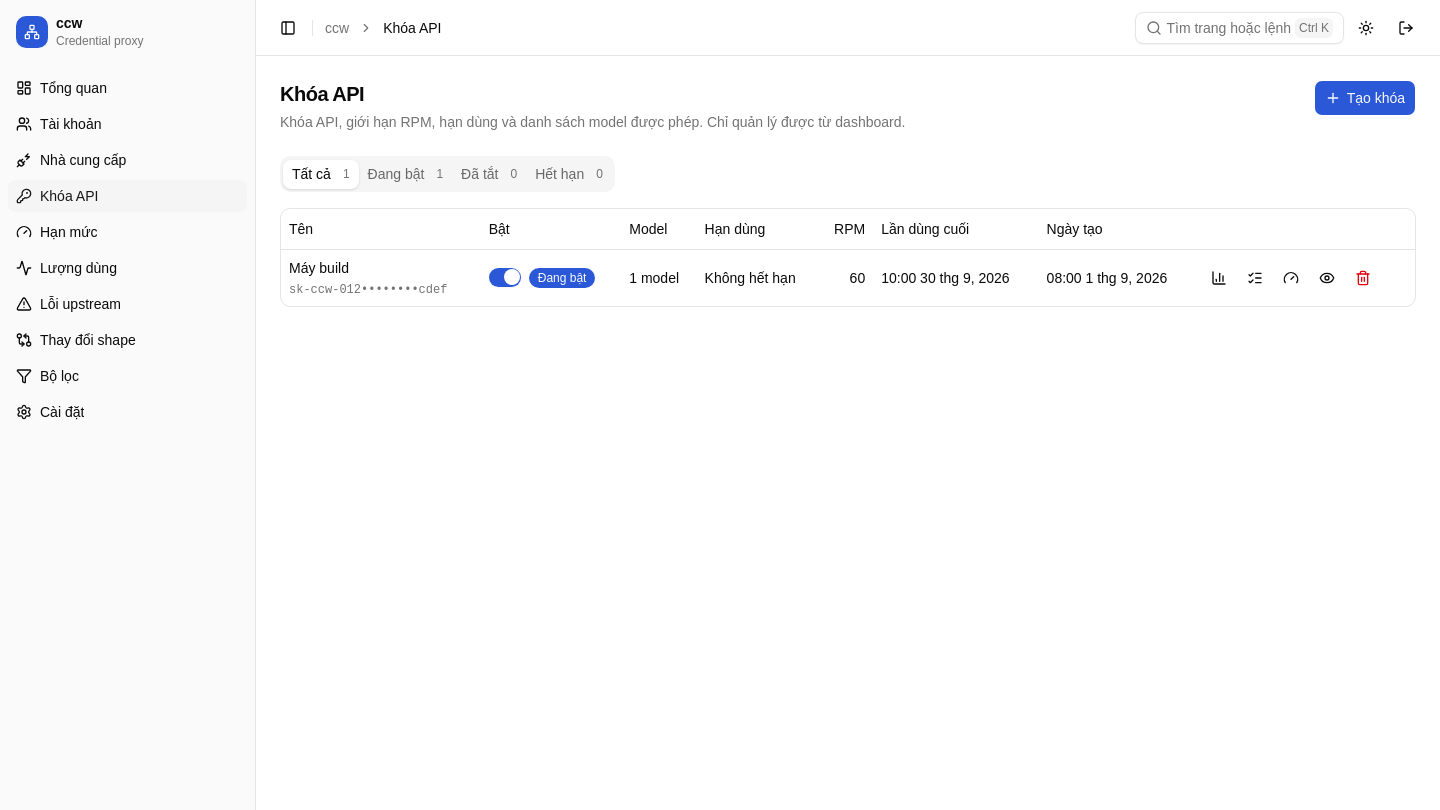
Scenario: trang khóa API › reveal cần xác nhận rồi mới gọi máy chủ
This screenshot has width=1440, height=810.
expect the heading "Khóa API" is shown: met, box top-left (280, 83), bottom-right (364, 105)
What coordinates should you click on to do the following:
click the button named "Xem khóa Máy build"
I would click on:
 (1327, 278)
Its box is top-left (1311, 262), bottom-right (1343, 294).
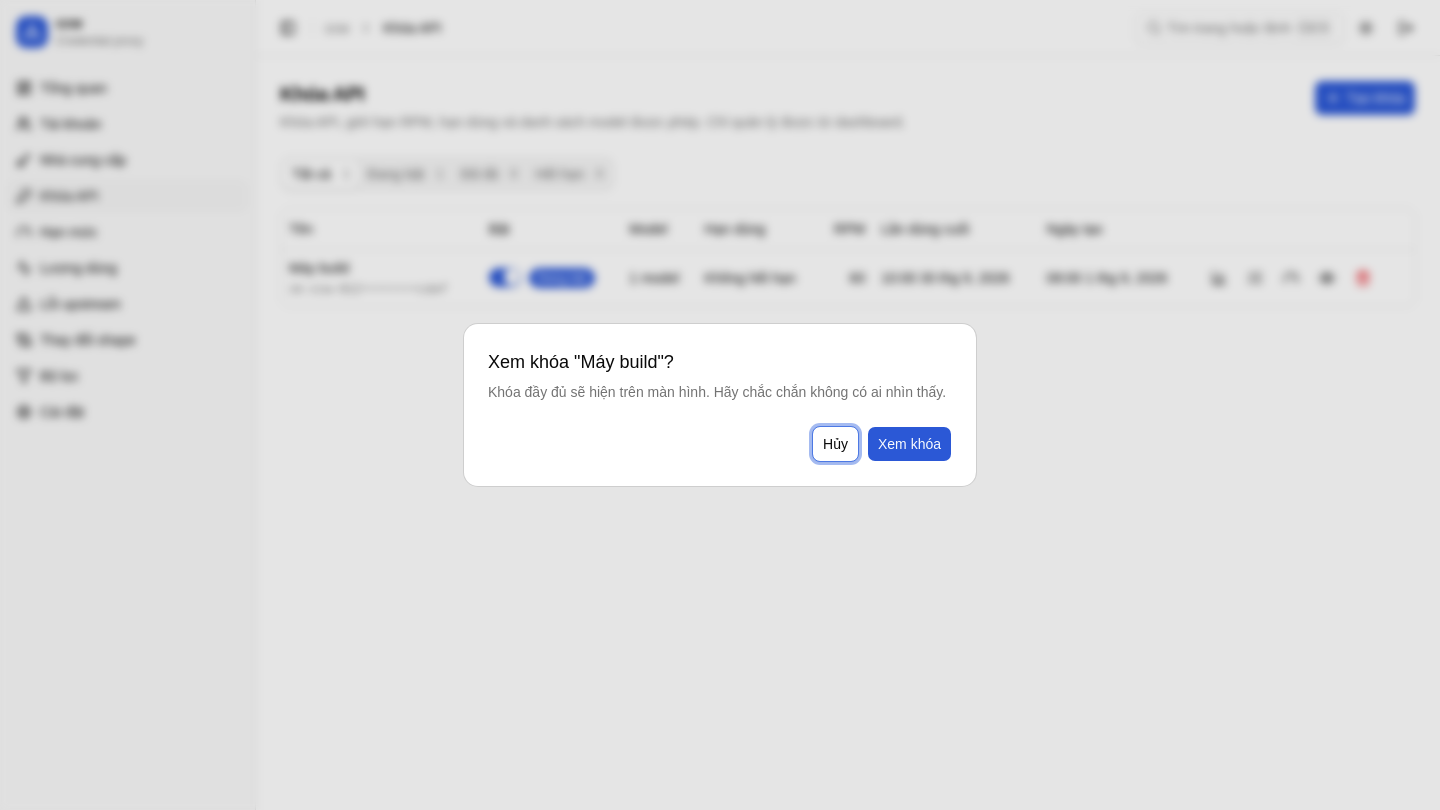
What coordinates should you click on to do the following:
click the button "Xem khóa"
I would click on:
 (910, 444)
Its box is top-left (867, 426), bottom-right (952, 462).
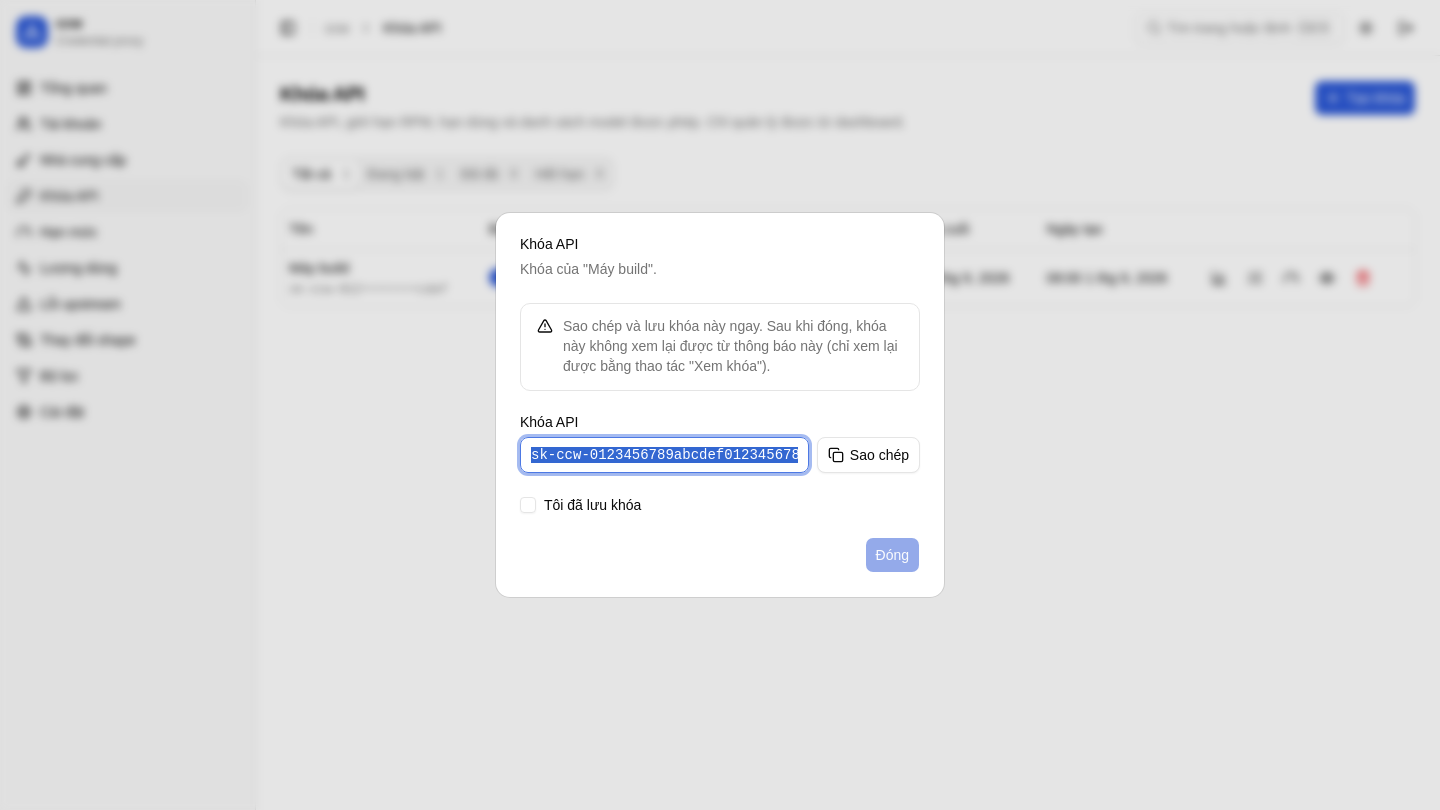
expect the field labelled "Khóa API" holds "sk-ccw-0123456789abcdef0123456789abcdef0123456789abcdef": met, box top-left (520, 437), bottom-right (809, 473)
